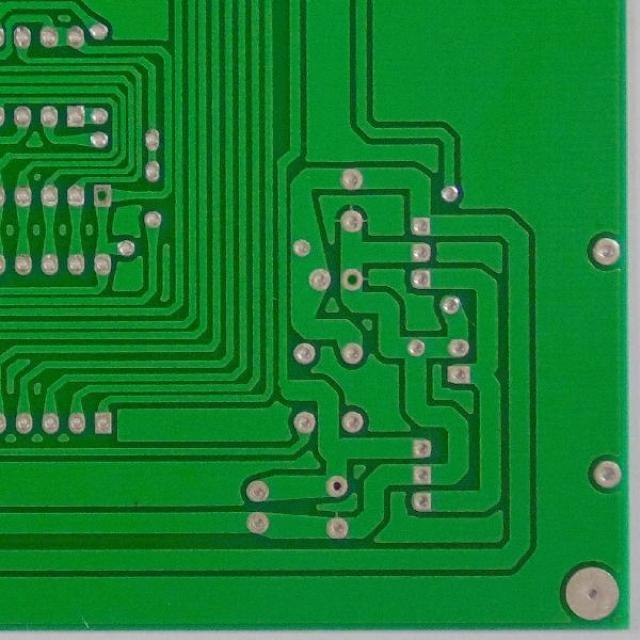Missing_Hole: (89, 180, 116, 210), (323, 472, 348, 498), (340, 266, 363, 293)
